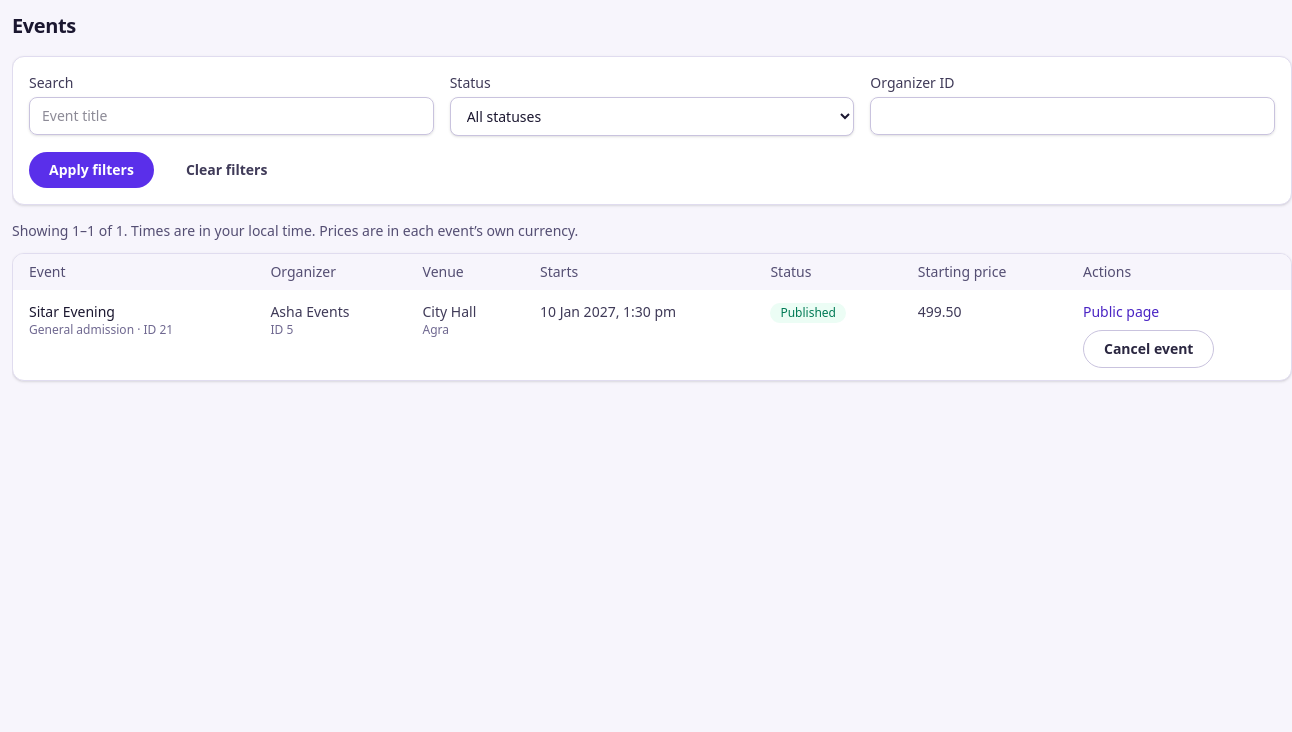
Test: AdminEventsPage › shows the server's reason next to the row when cancelling is refused
The width and height of the screenshot is (1292, 732).
Click the button with aria-label "Cancel Sitar Evening" at x=1149, y=349, box [1083,330,1214,368]
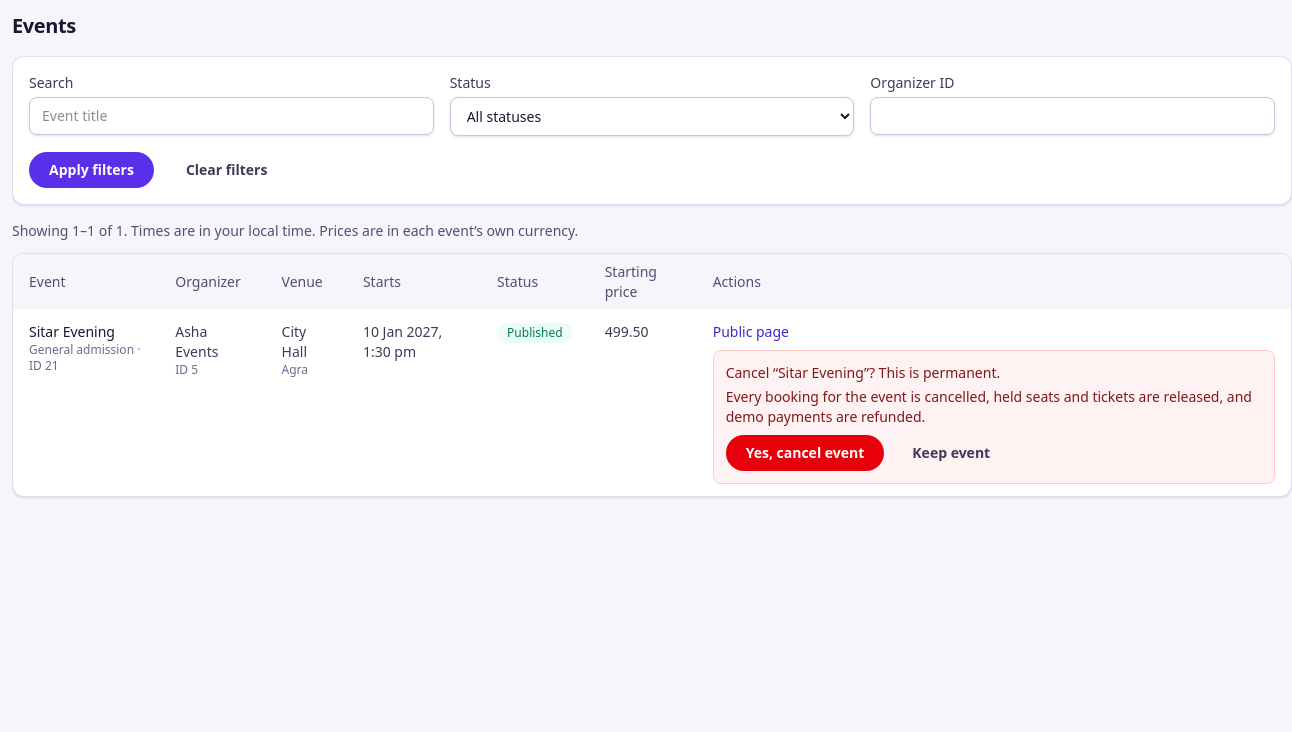
Click the button "Yes, cancel event" at x=805, y=453, box [726,435,884,471]
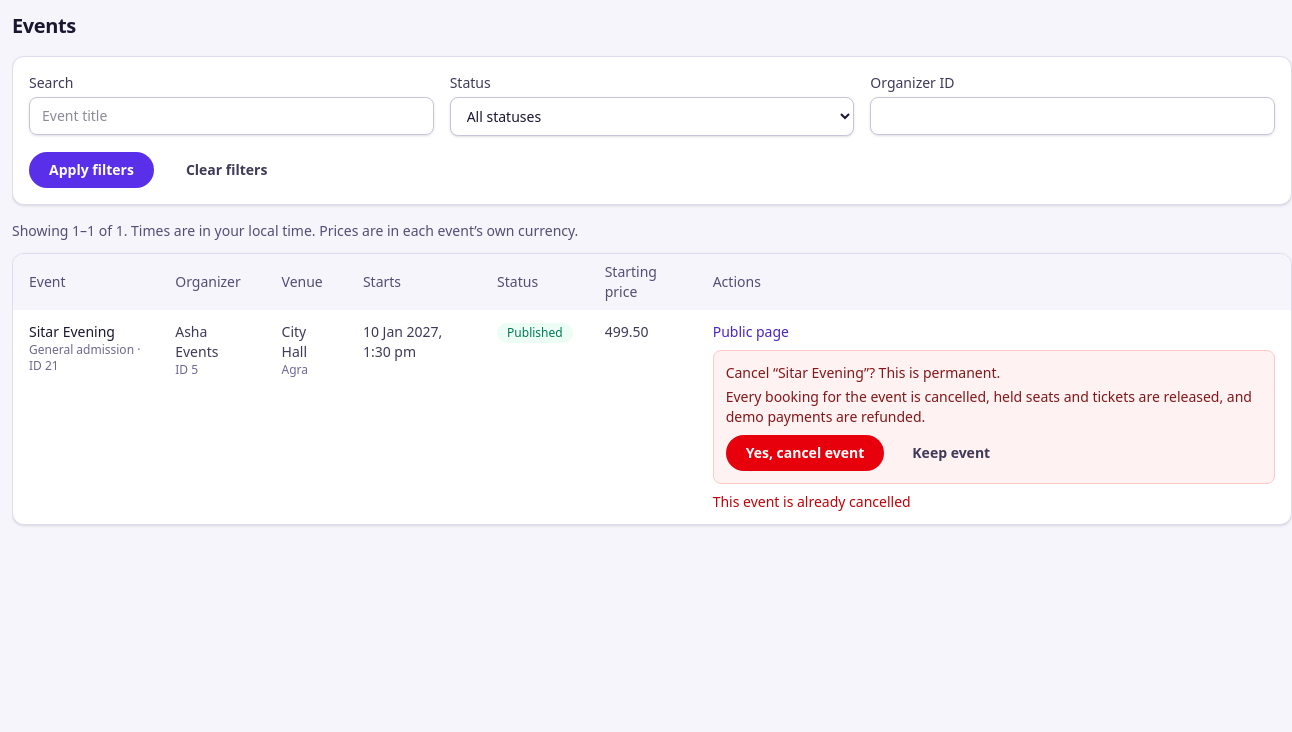
expect the message shows "already cancelled": met, box [713,492,911,511]
